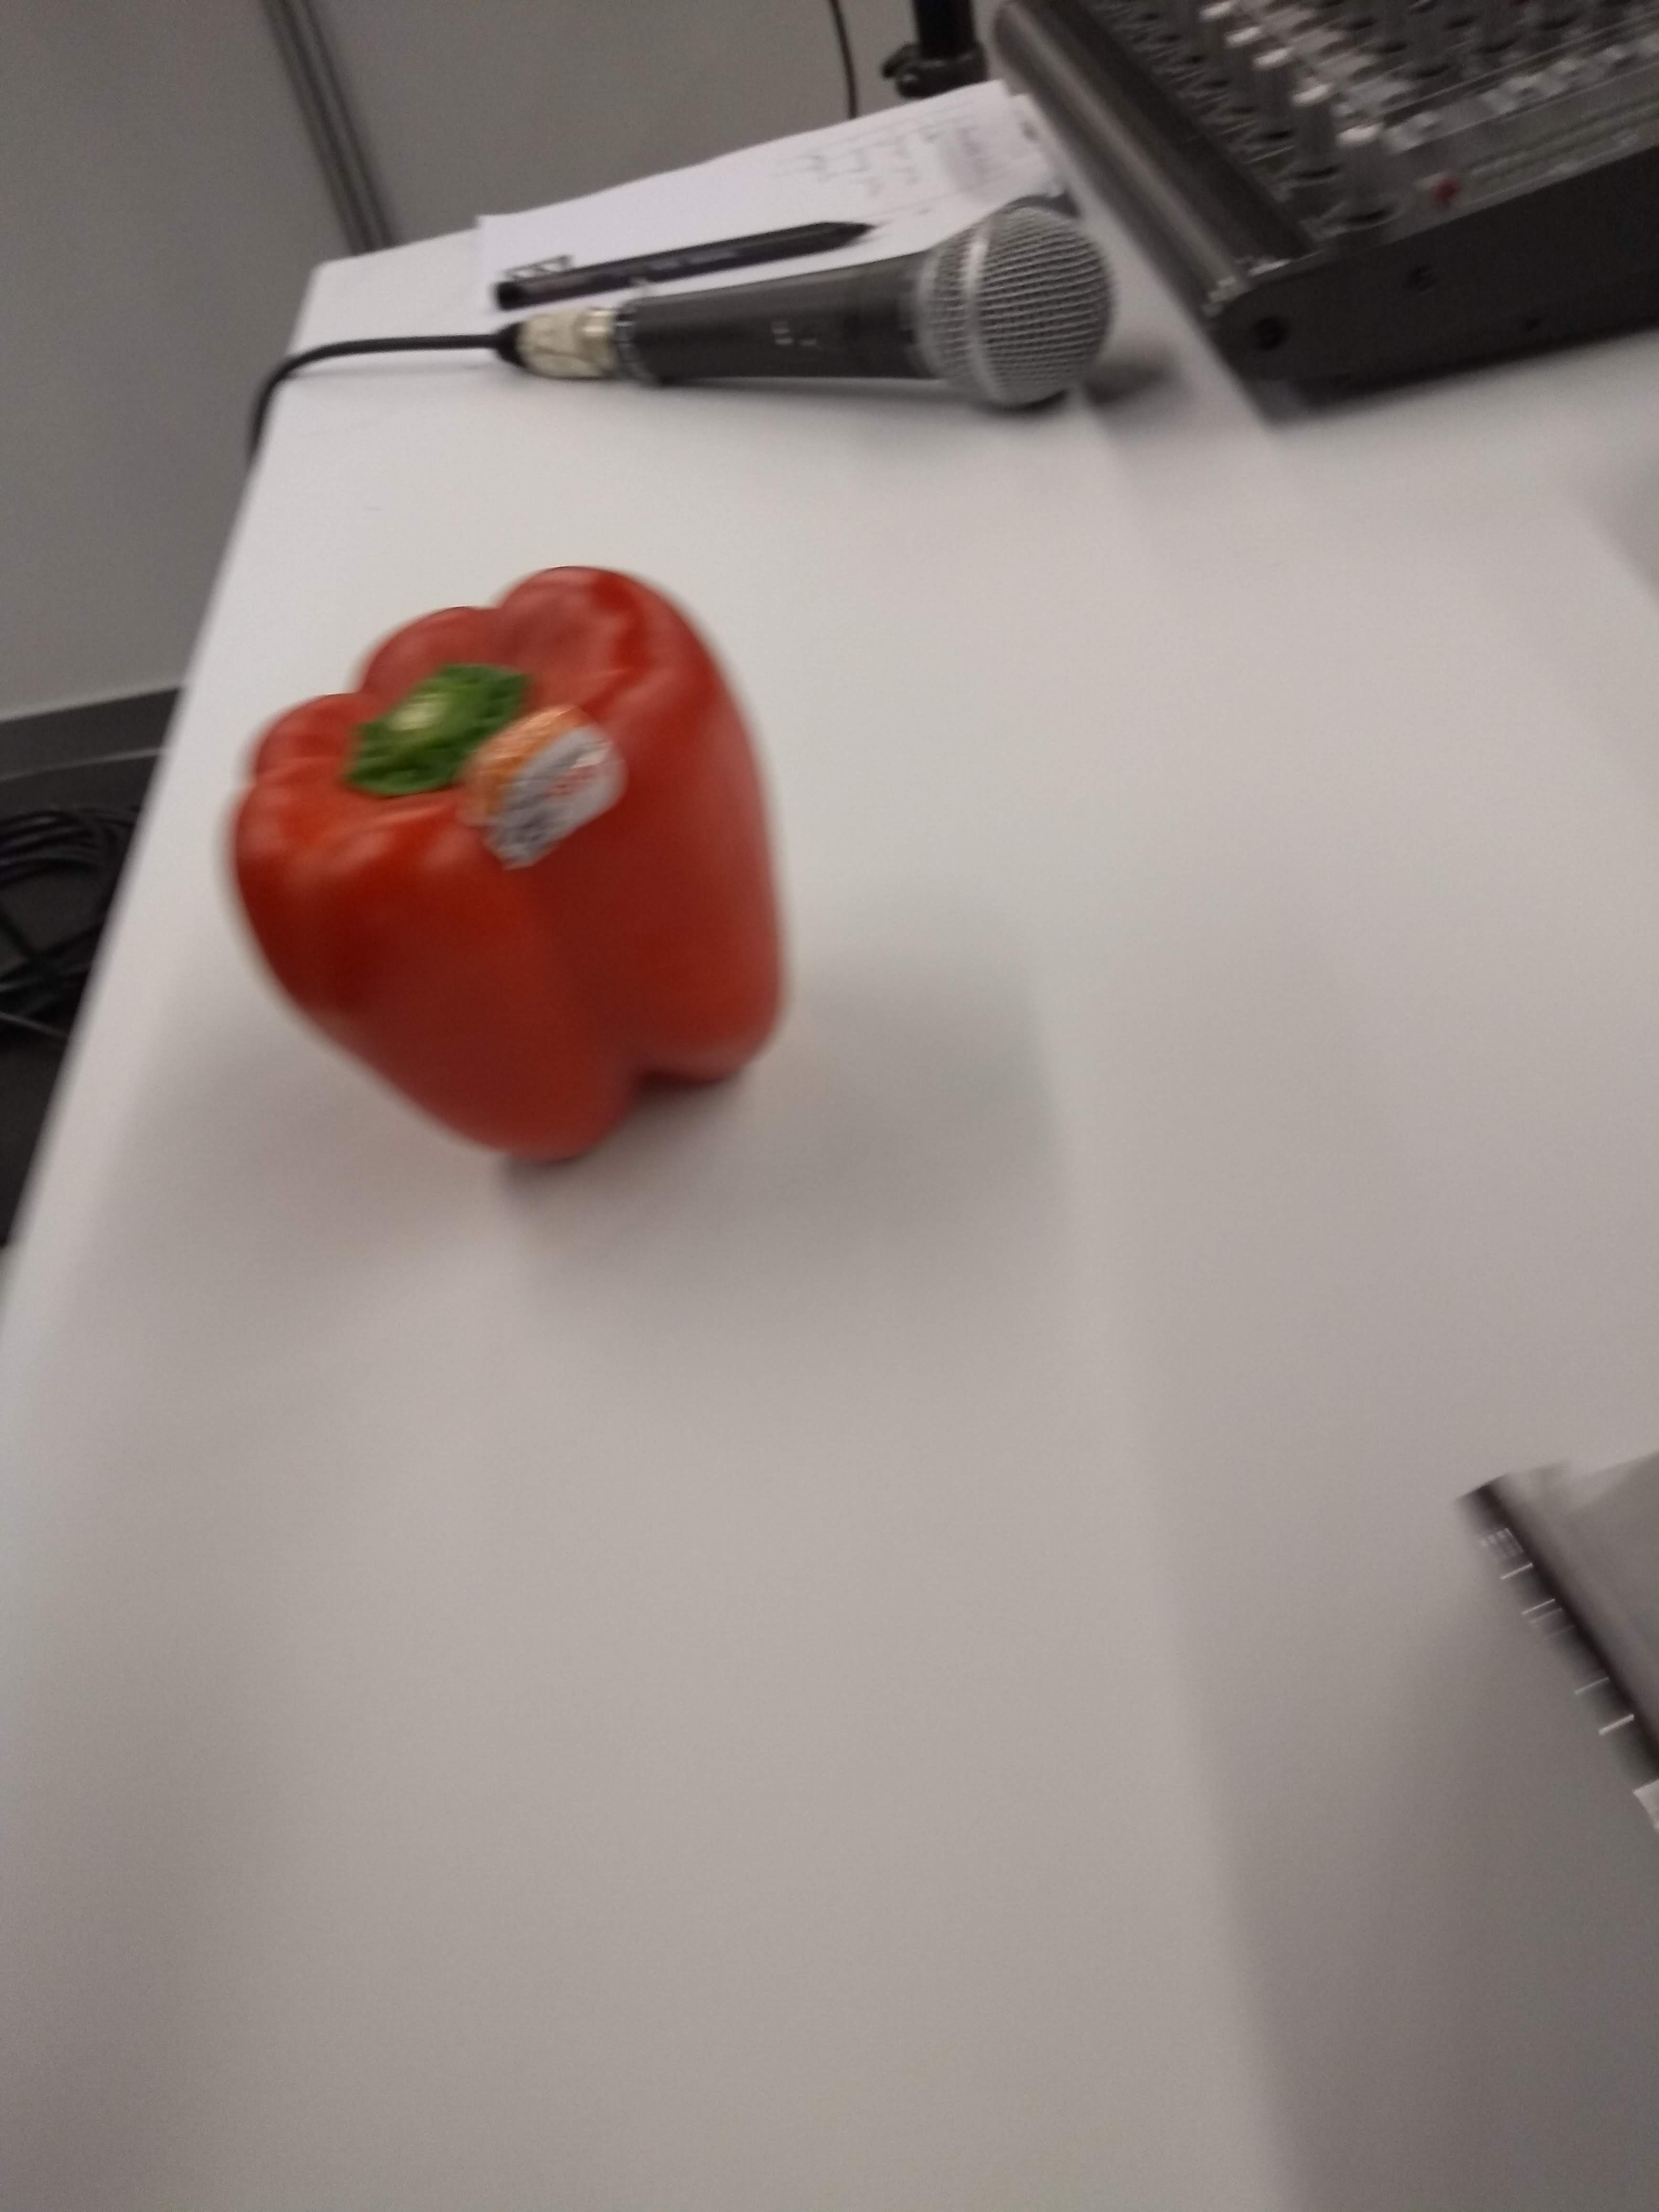paprika: (190, 538, 800, 1193)
